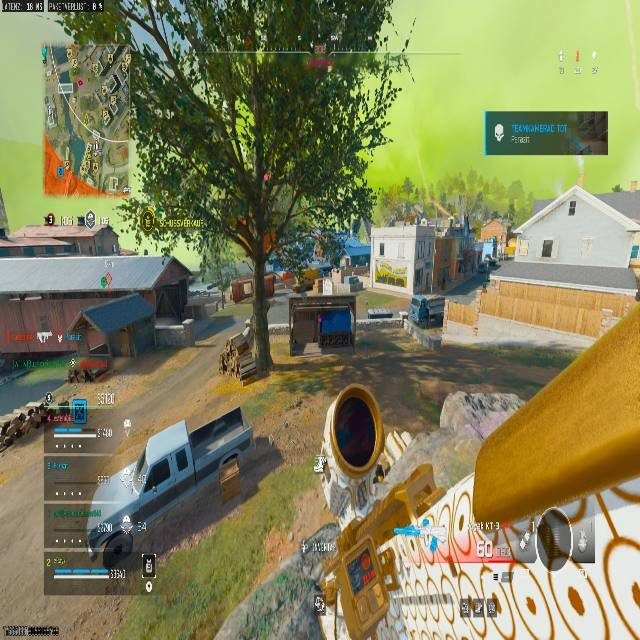player: (221, 330, 254, 380)
